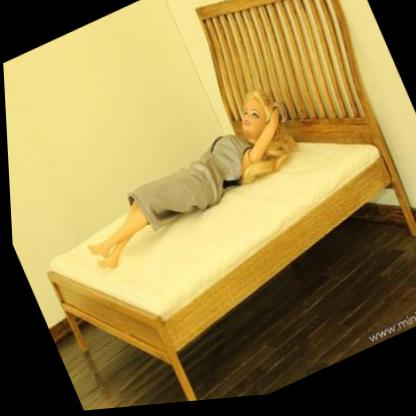Bed: (45, 0, 416, 406)
Wooden floor: (175, 211, 416, 404)
